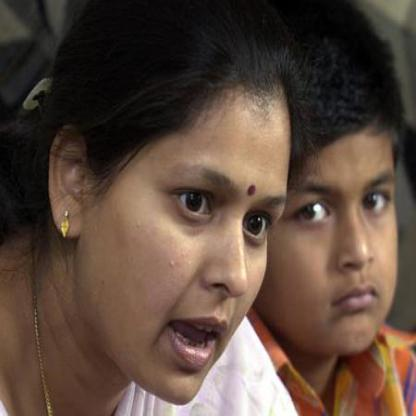face: (87, 15, 297, 414), (237, 32, 411, 367)
